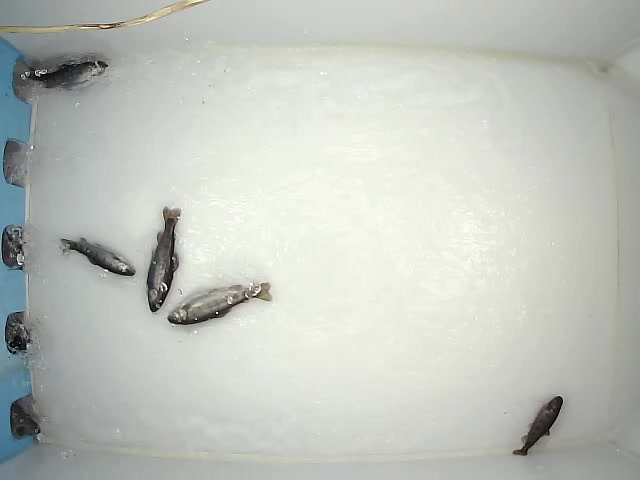fish: (166, 280, 273, 325), (146, 205, 183, 314), (56, 235, 139, 279), (511, 394, 564, 458), (23, 60, 110, 90)
